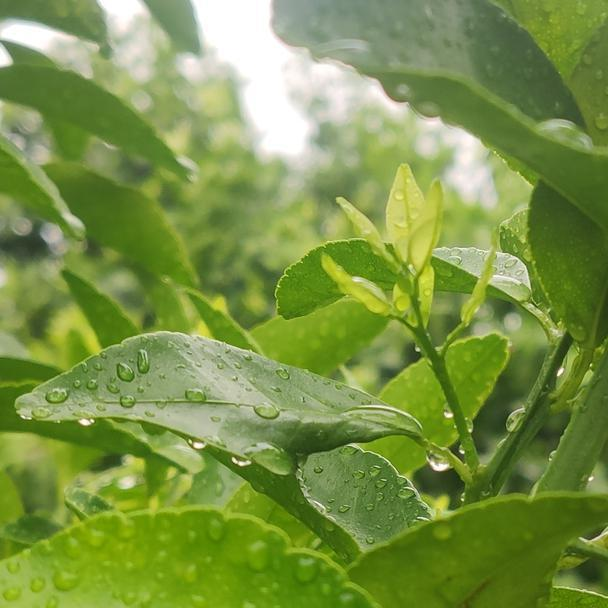shoot: (331, 178, 498, 393)
